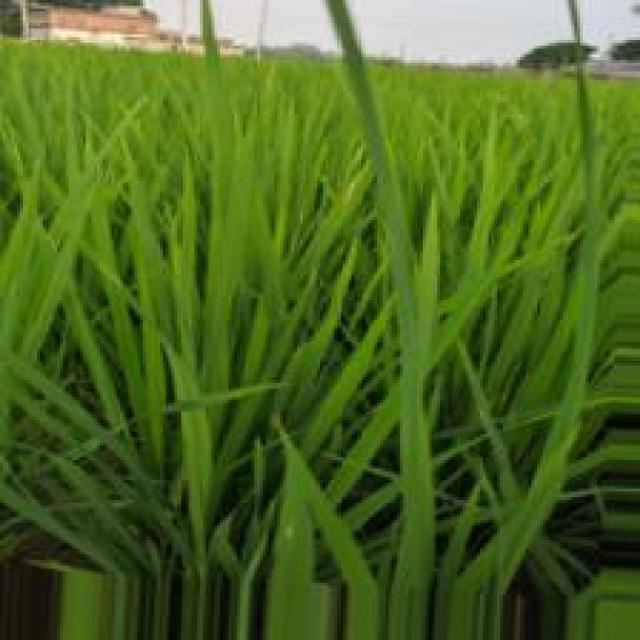HealthyLeaf: (211, 217, 242, 304), (404, 464, 432, 554), (312, 380, 352, 438), (185, 420, 210, 492)
